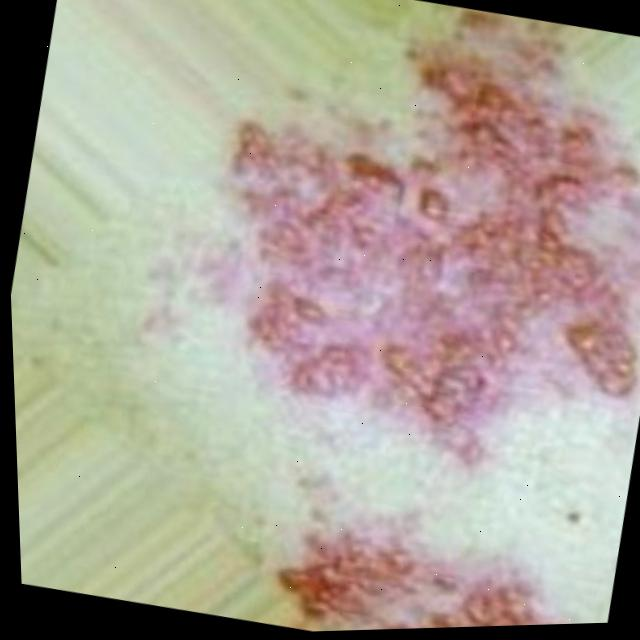Shingles: (181, 0, 640, 479), (292, 507, 589, 632)
